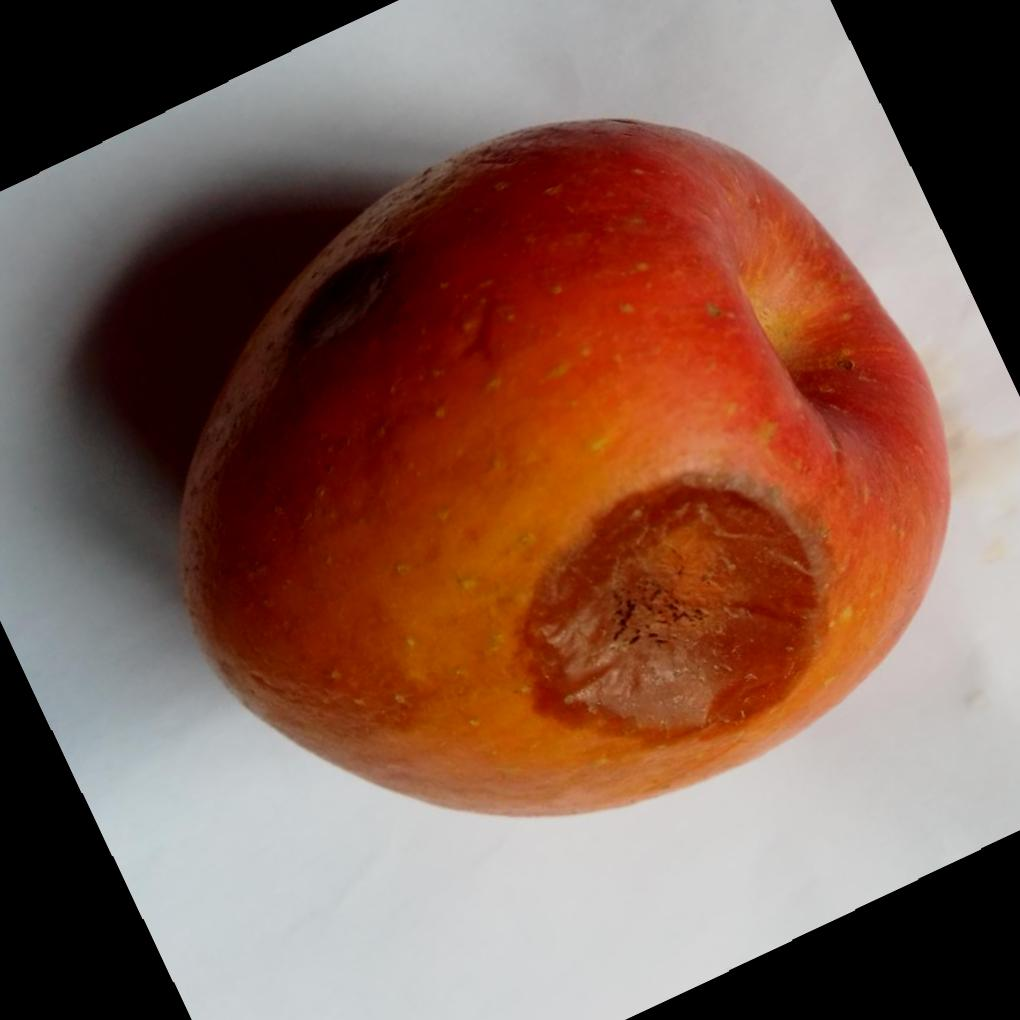FreshOrange: (169, 117, 950, 821)
